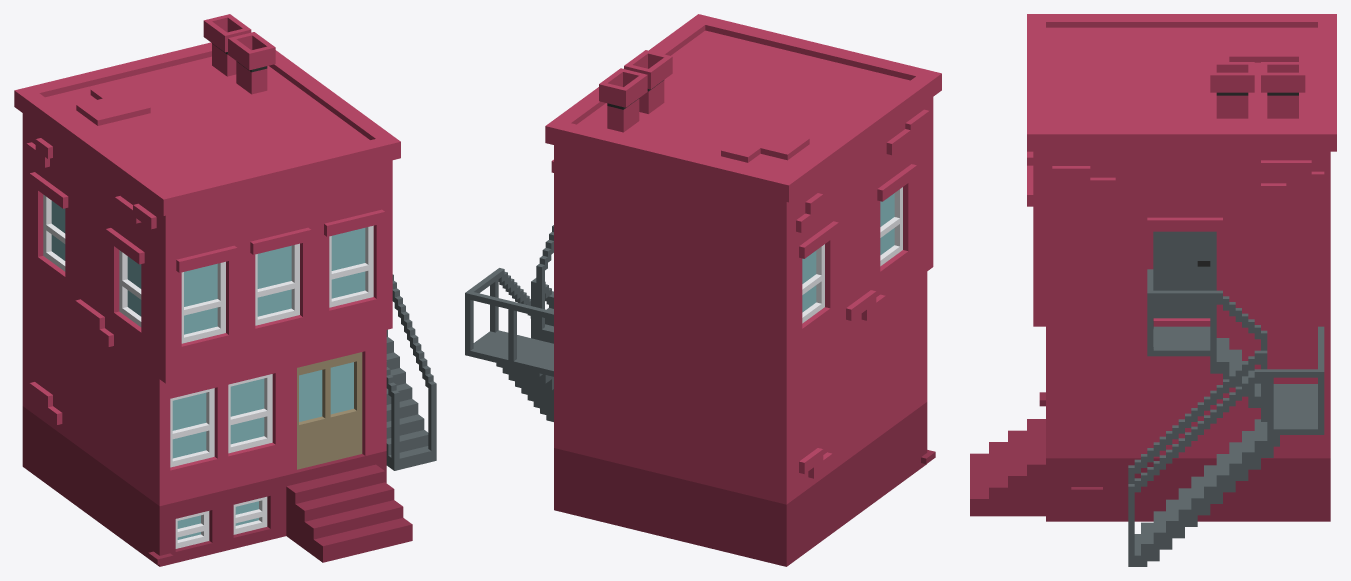
File: House2FBX.fbx
3 renders of one model, left to right at view 1: azimuth 30°, elevation 25°; view 2: azimuth 150°, elevation 25°; view 3: azimuth 270°, elevation 25°, orthographic. The views are drawn at different scales.
Parts seen in each view (by area): view 1: House2v1; view 2: House2v1; view 3: House2v1.
Boxes of the visible parts, x1,y1,x2,y2 form: House2v1: (14,14,436,566); House2v1: (465,14,941,566); House2v1: (970,14,1336,566).
Size of the model in its own units: 610 by 750 by 580.
1 material, 1 textured.
